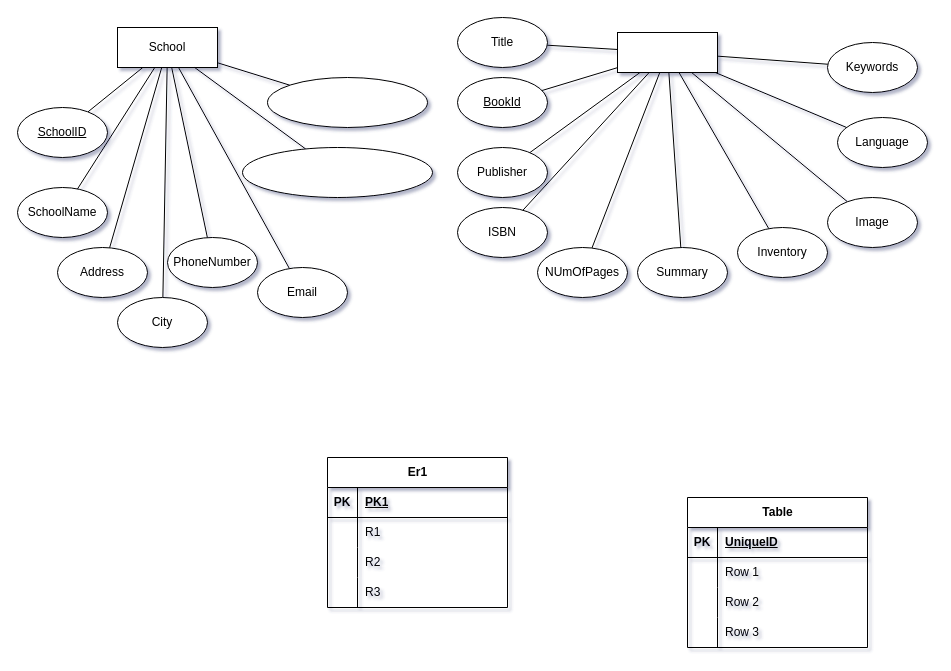
Some shapes in this 951 by 671 pixel diagram are drawn without their labels. Each missing label, with the centre of its shape:
Book: (x=667, y=52)
SchoolDirectorFullName: (x=347, y=102)
SchoolLibraryOperatorFullName: (x=337, y=172)
